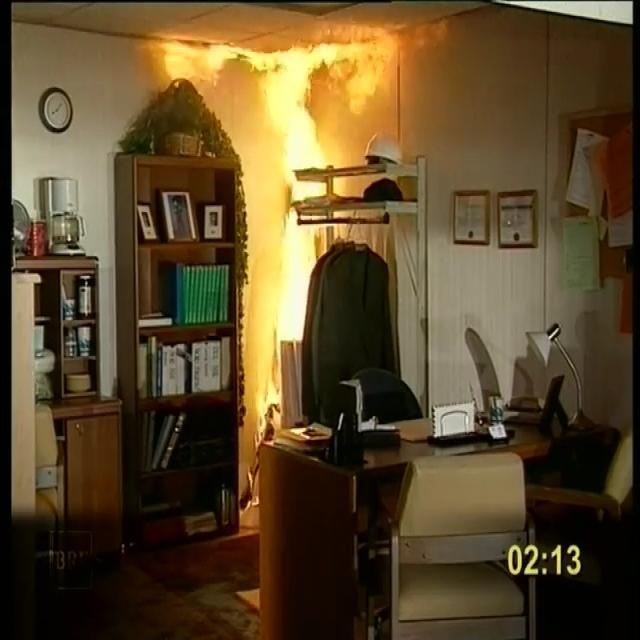Fire: (247, 26, 361, 166)
